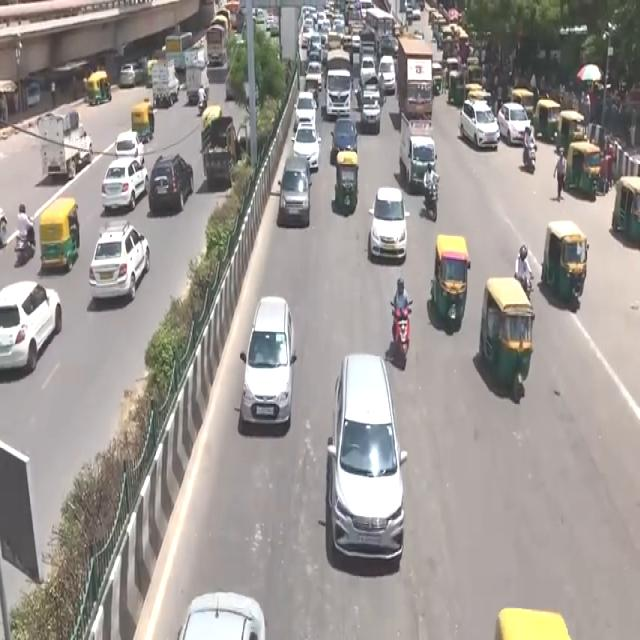BUS: (397, 38, 438, 120)
MOTORCYCLE: (393, 308, 411, 373)
SUV: (329, 355, 403, 555)
TRUCK: (40, 198, 82, 273), (205, 26, 227, 68)
